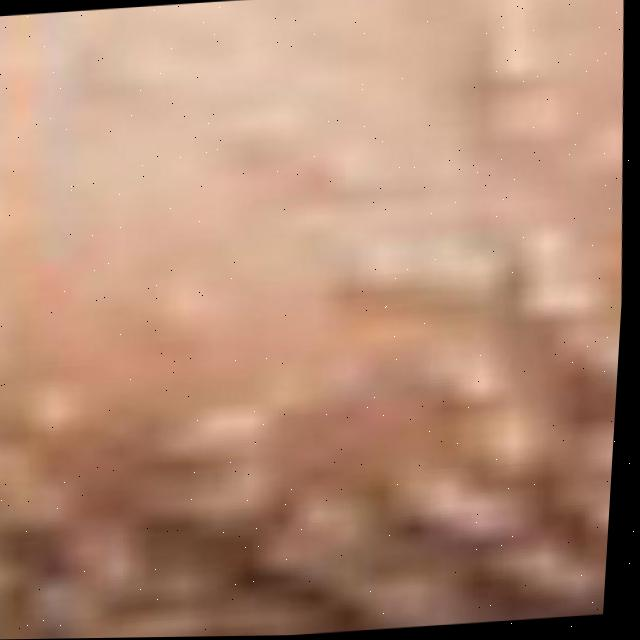Eczema: (0, 201, 628, 640)
